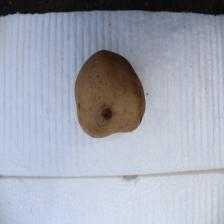Damaged potato: (71, 44, 147, 146)
